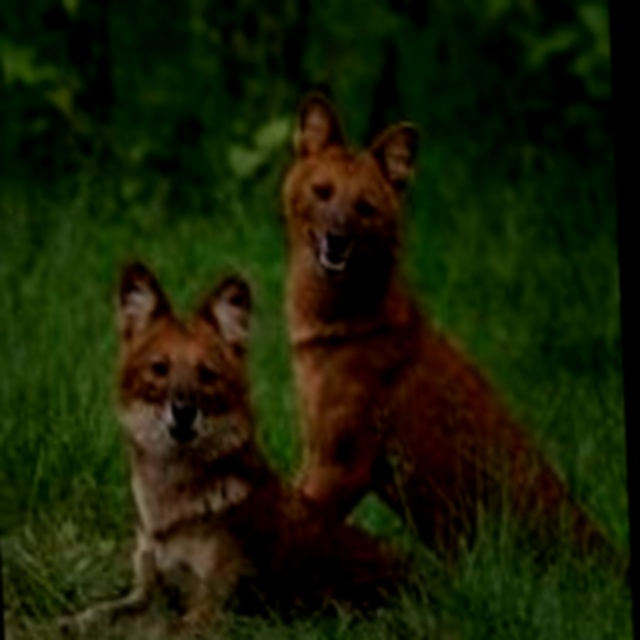dog: (260, 94, 488, 498), (73, 258, 300, 621)
